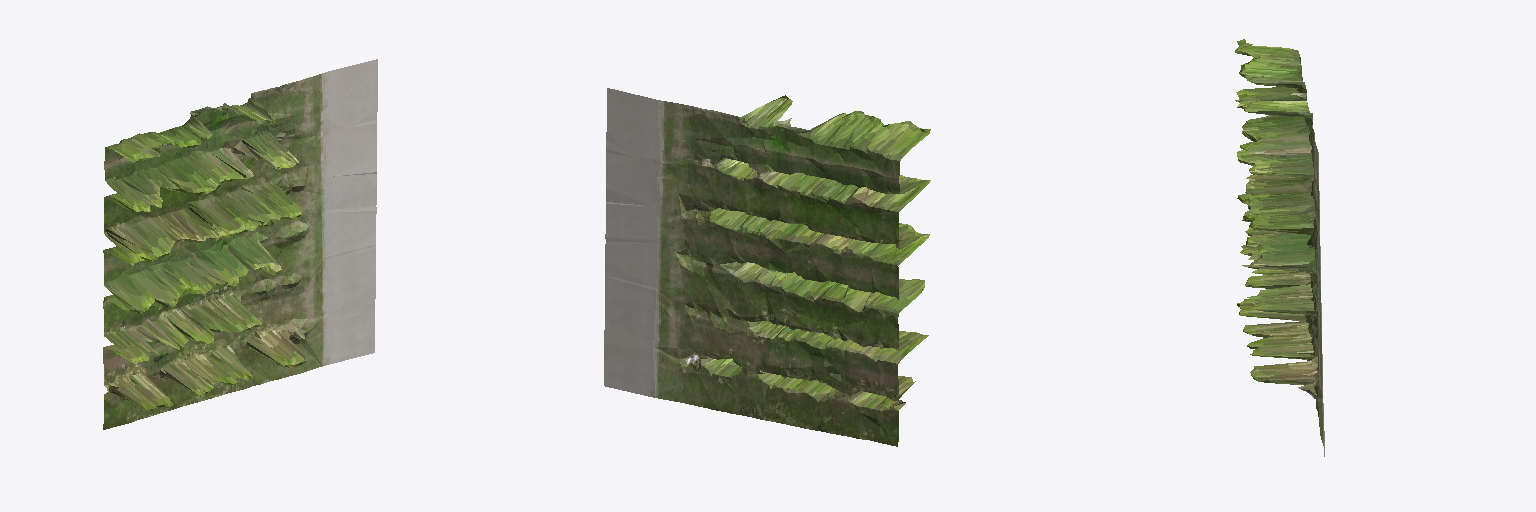
3 renders of one model, left to right at view 1: azimuth 30°, elevation 25°; view 2: azimuth 150°, elevation 25°; view 3: azimuth 270°, elevation 25°, orthographic.
Parts seen in each view (by area): view 1: grp1; view 2: grp1; view 3: grp1.
Part boxes in pixels (bbox=[...]): grp1: bbox=[103, 59, 377, 429]; grp1: bbox=[604, 88, 930, 446]; grp1: bbox=[1235, 39, 1324, 456].
Bounding box in the file's own units: 10 × 10 × 2.78.
1 materials, 1 textured.